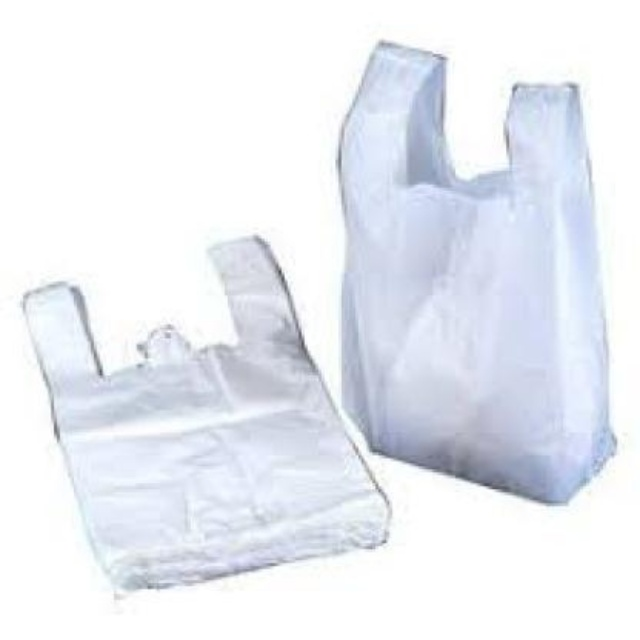trash: (23, 235, 388, 588), (338, 42, 612, 502)
